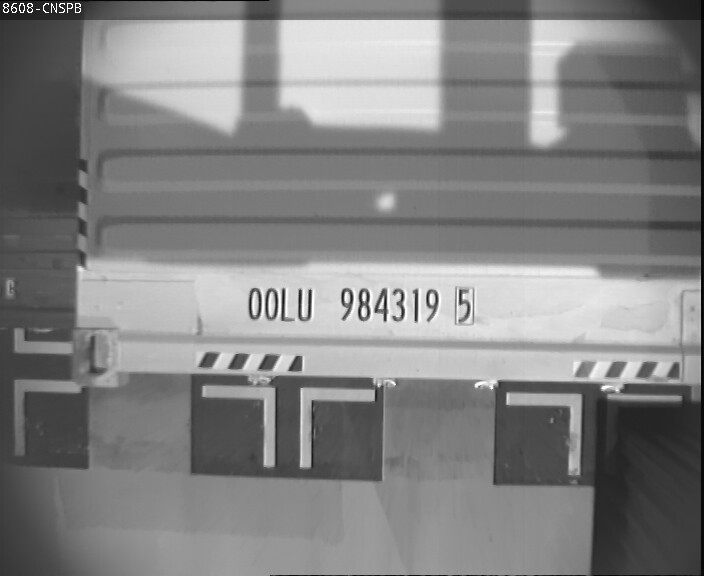groundmarker_1: (200, 384, 375, 467), (12, 328, 81, 454)
